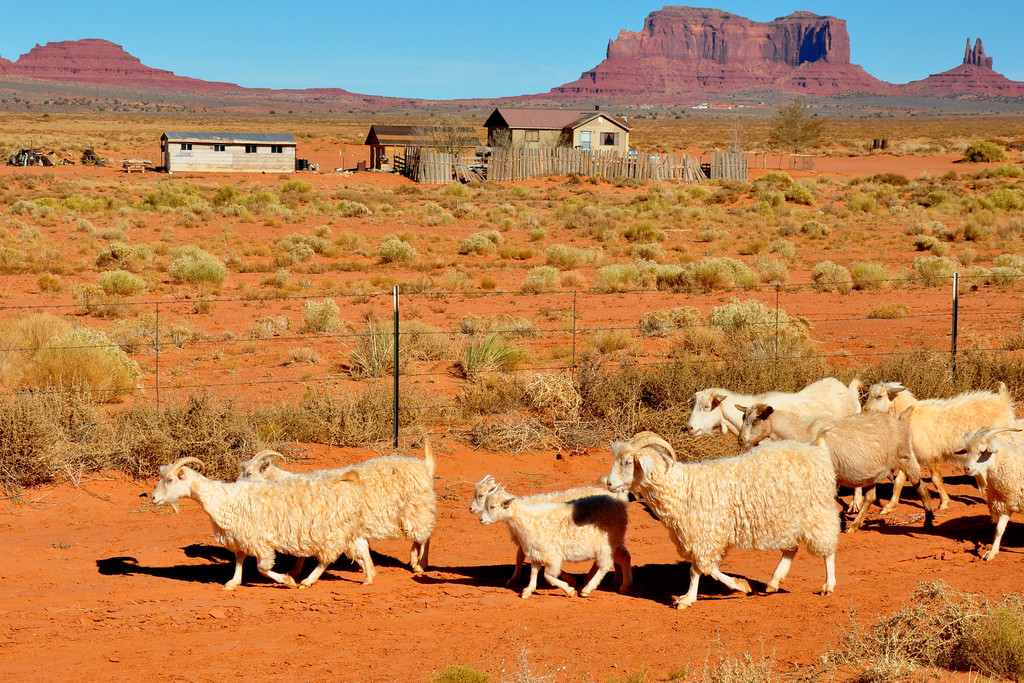sheep: (618, 448, 858, 601)
